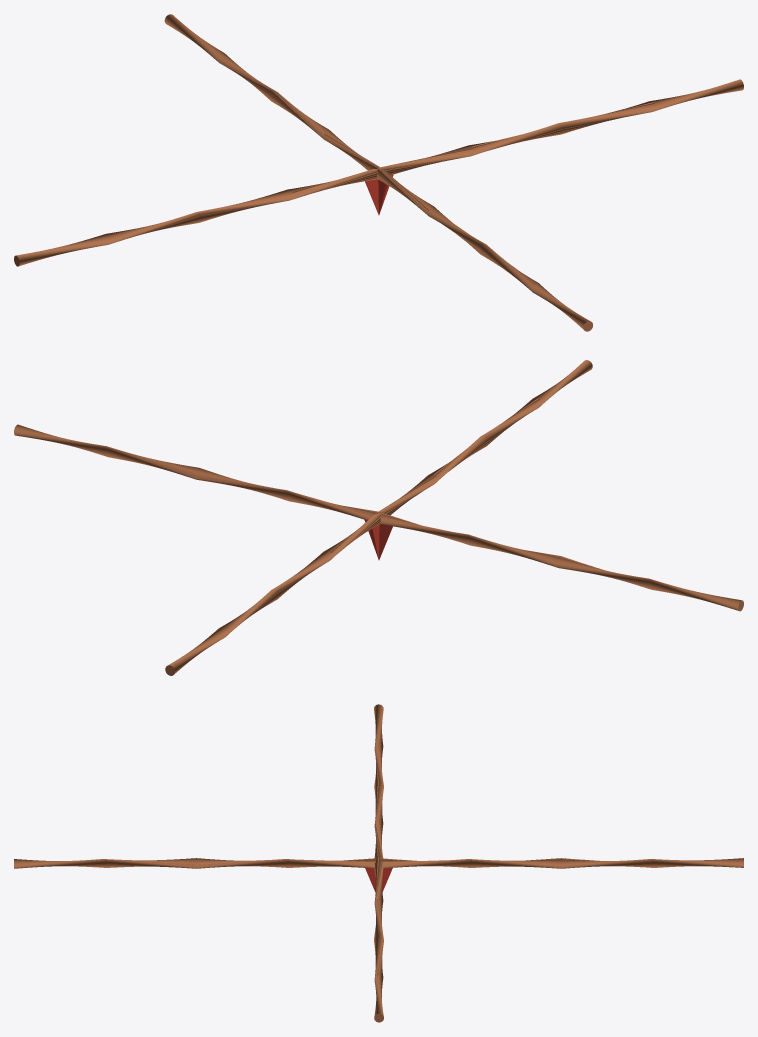
File: tambang.fbx
The picture shows the model from 3 angles, top to bottom: view 1: azimuth 30°, elevation 25°; view 2: azimuth 150°, elevation 25°; view 3: azimuth 270°, elevation 25°; orthographic projection. The views are drawn at different scales.
Parts seen in each view (by area): view 1: Cylinder; view 2: Cylinder; view 3: Cylinder.
Part boxes in pixels (<box>): Cylinder: <box>14,14,743,331</box>; Cylinder: <box>14,360,743,675</box>; Cylinder: <box>14,704,743,1022</box>.
Bounding box in the file's own units: 9.16 × 0.586 × 9.16.
